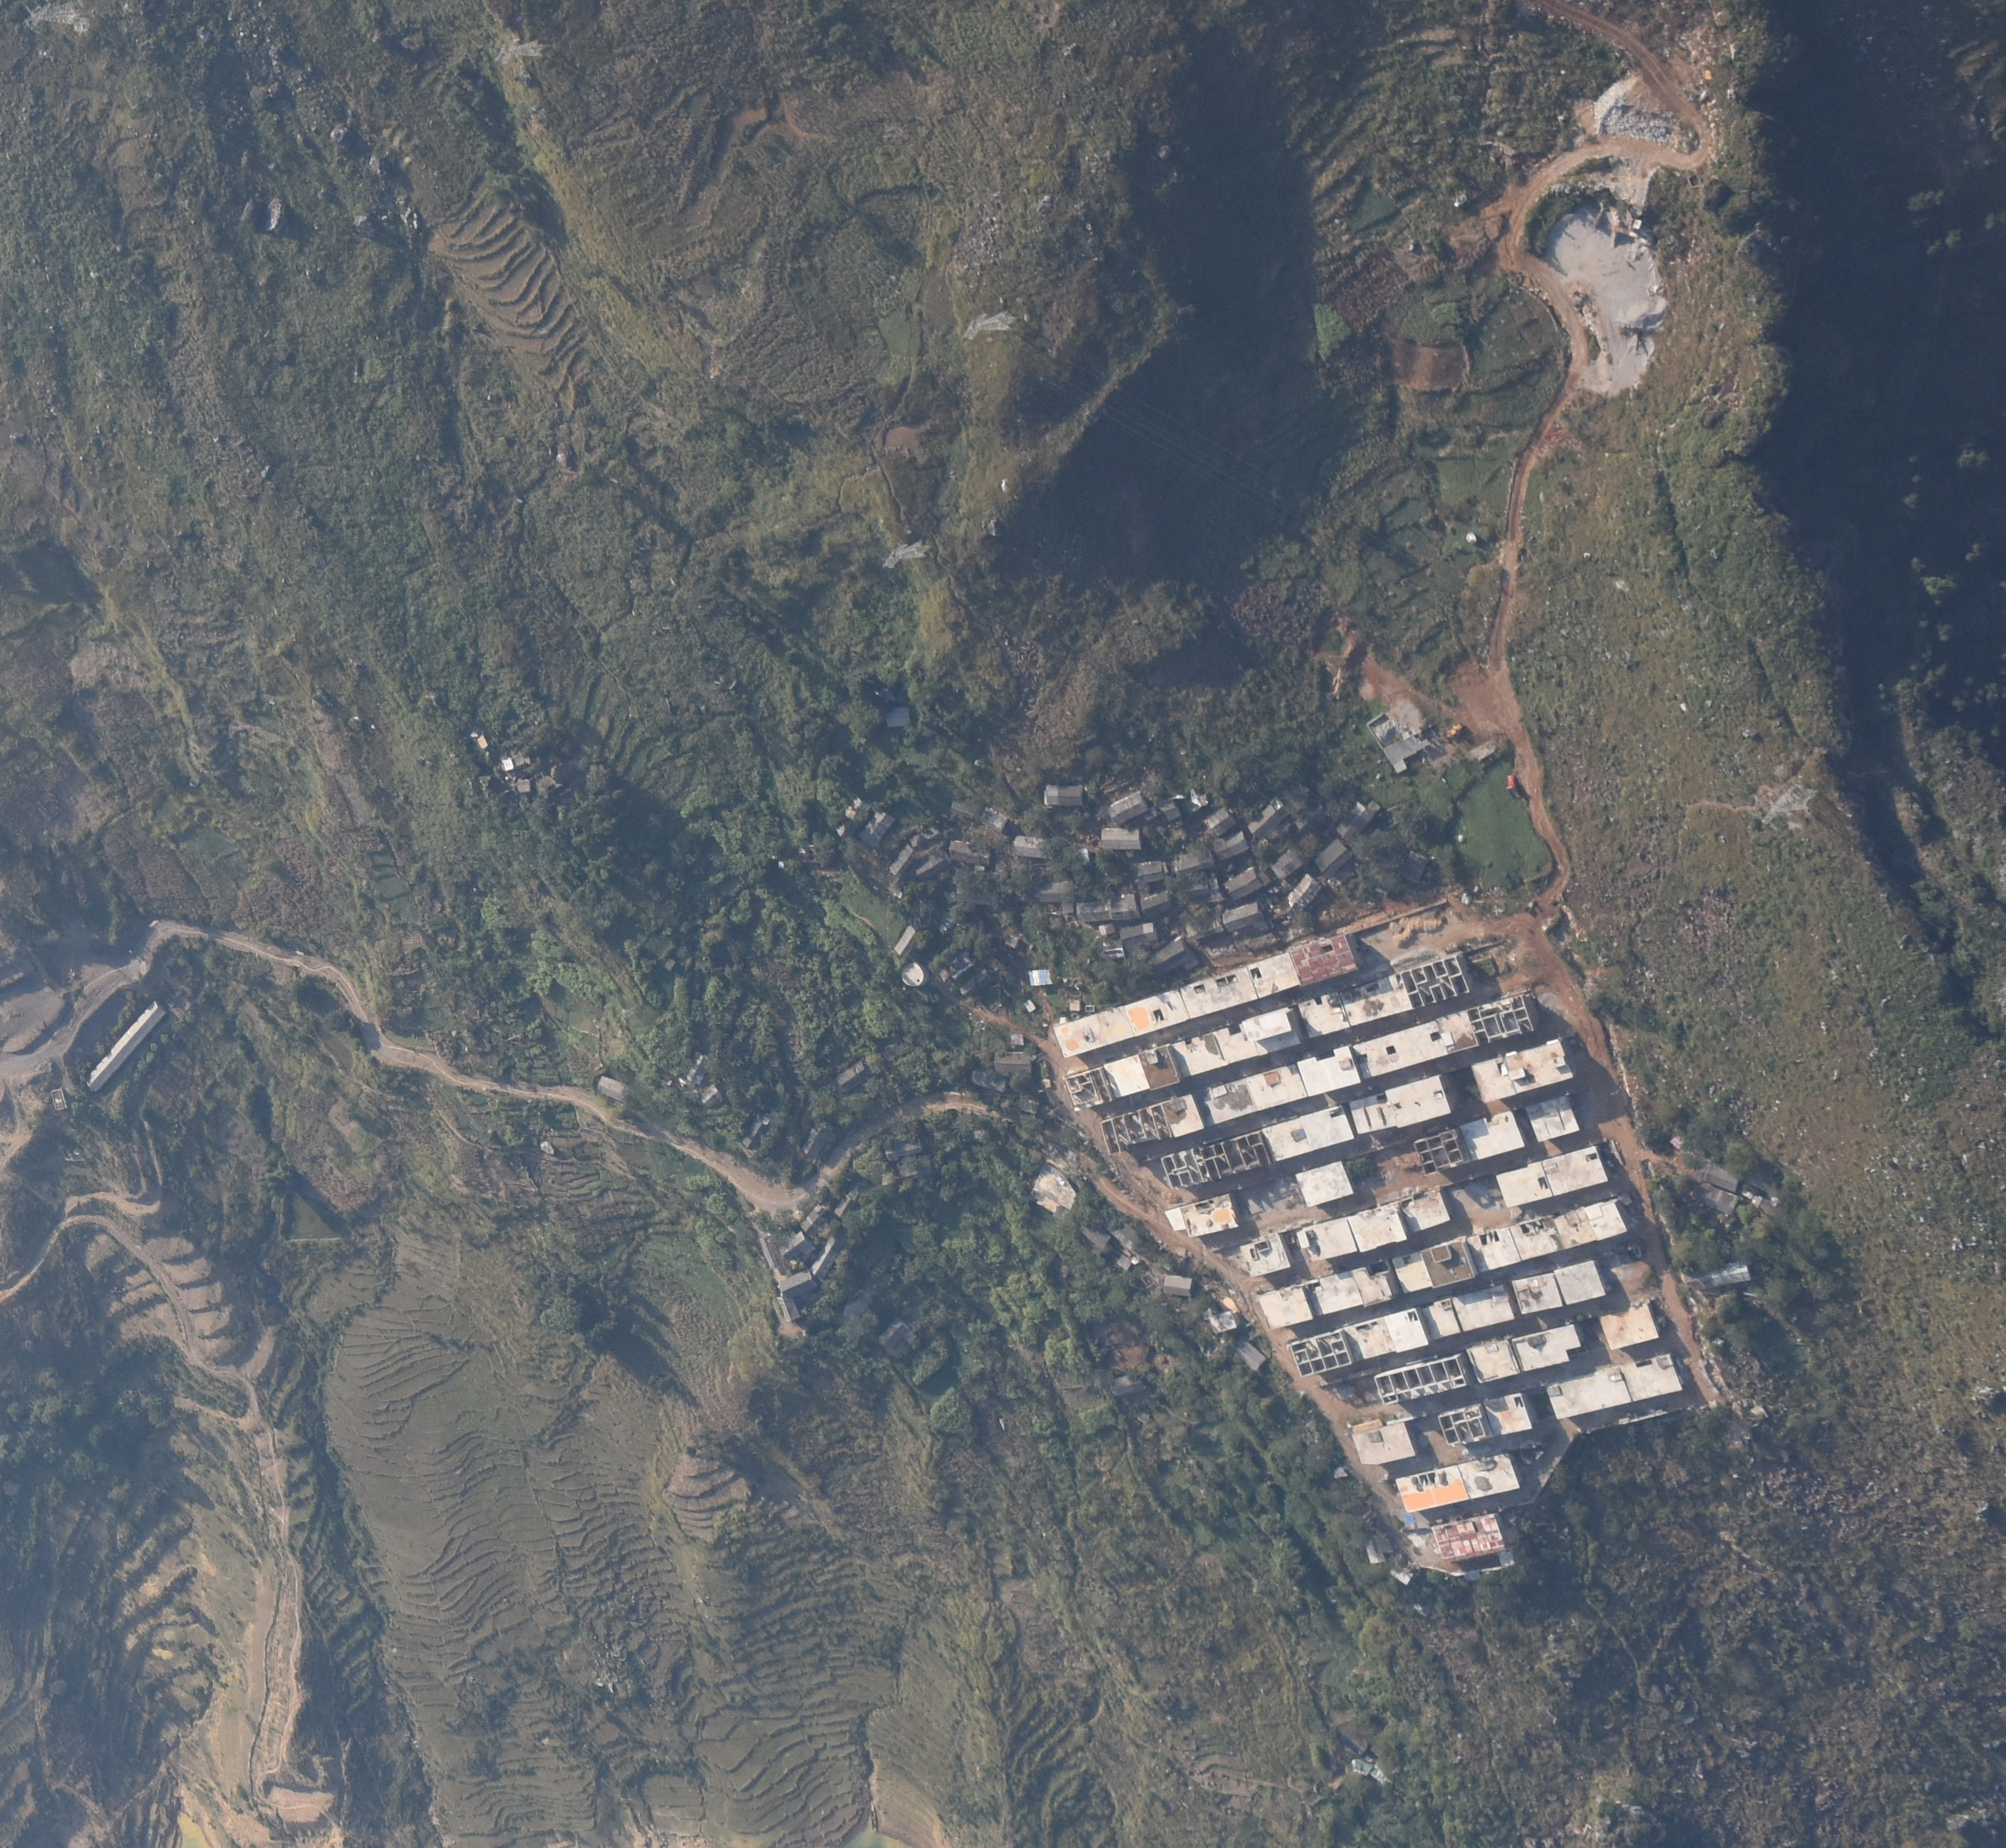building: (1473, 1040, 1574, 1101), (1162, 1131, 1270, 1187), (1351, 1077, 1454, 1133), (1351, 1023, 1449, 1079), (1262, 1103, 1352, 1159), (1054, 1007, 1134, 1059), (1548, 1369, 1630, 1420), (1181, 967, 1258, 1019), (1337, 974, 1412, 1026), (1401, 955, 1473, 1009), (1431, 1514, 1510, 1563), (1373, 1360, 1461, 1404), (1365, 712, 1426, 771), (1099, 1107, 1172, 1156), (1396, 1465, 1468, 1514), (1553, 1201, 1627, 1248), (1298, 1044, 1361, 1098), (1290, 934, 1356, 984), (1351, 1418, 1419, 1467), (1459, 1110, 1522, 1161), (1471, 997, 1536, 1044), (1347, 1201, 1405, 1254), (1164, 1196, 1239, 1236), (1457, 1453, 1524, 1498), (1291, 1330, 1352, 1379), (1125, 988, 1188, 1035), (1419, 1236, 1477, 1287), (678, 1051, 727, 1110), (1297, 1215, 1358, 1262), (1622, 1355, 1683, 1402), (1513, 1327, 1581, 1369), (1452, 1287, 1517, 1330), (1244, 1007, 1302, 1056), (1601, 1303, 1660, 1350), (889, 829, 949, 874), (1546, 1150, 1606, 1196), (1244, 1065, 1307, 1107), (1466, 1227, 1522, 1275), (1307, 1269, 1365, 1315), (1027, 1161, 1076, 1213), (1496, 1163, 1553, 1206), (1510, 1213, 1562, 1261), (1295, 1164, 1356, 1205), (1248, 953, 1300, 998), (1297, 995, 1349, 1040), (1466, 1337, 1518, 1383), (835, 801, 891, 843), (1200, 1080, 1256, 1122), (1352, 1257, 1400, 1306), (1415, 1131, 1468, 1175), (1524, 1098, 1578, 1140), (1260, 1285, 1314, 1327), (1211, 1016, 1256, 1065), (1061, 1068, 1113, 1110), (1169, 1033, 1221, 1075), (1438, 1406, 1491, 1446), (884, 1138, 930, 1184), (1401, 1187, 1449, 1231), (1344, 1318, 1393, 1360), (1555, 1261, 1604, 1303), (1487, 1393, 1536, 1435), (1239, 1236, 1290, 1276), (1097, 923, 1159, 956), (1337, 799, 1380, 844), (1104, 1054, 1148, 1100), (1384, 1306, 1429, 1350), (1513, 1273, 1562, 1313), (1138, 1044, 1179, 1089), (1244, 801, 1288, 843), (1160, 1093, 1204, 1135), (1438, 1007, 1478, 1051), (1391, 1250, 1429, 1296), (776, 1275, 813, 1322), (1075, 895, 1138, 921), (949, 802, 1006, 830), (1422, 1297, 1461, 1339), (944, 956, 987, 991), (1312, 841, 1349, 881), (1174, 881, 1223, 911), (1162, 792, 1209, 820), (1283, 876, 1318, 913), (1704, 1157, 1740, 1192), (1698, 1185, 1739, 1217), (778, 841, 821, 869), (799, 1203, 832, 1240), (1704, 1262, 1749, 1289), (1111, 790, 1148, 822), (1186, 914, 1225, 944), (797, 1126, 832, 1157), (874, 1320, 909, 1351), (1216, 829, 1248, 864), (1106, 1219, 1141, 1250), (1235, 1337, 1267, 1372), (993, 1051, 1033, 1077), (835, 1061, 867, 1094), (1746, 1166, 1779, 1198), (1225, 867, 1260, 897), (743, 1115, 771, 1152), (760, 1231, 786, 1269), (809, 1241, 840, 1273), (1139, 888, 1172, 918), (1101, 827, 1141, 851), (951, 839, 989, 864), (1223, 906, 1262, 930), (1078, 1217, 1110, 1247), (834, 1185, 861, 1219), (1108, 1372, 1145, 1397), (596, 1073, 627, 1101), (1036, 879, 1075, 902), (1174, 853, 1213, 876), (1204, 808, 1237, 834), (1043, 785, 1083, 806), (1157, 941, 1188, 967), (1270, 853, 1302, 879), (783, 1231, 813, 1257), (893, 927, 919, 956), (882, 705, 912, 729), (1206, 1310, 1235, 1334), (1164, 1273, 1193, 1296), (1013, 836, 1047, 855), (1136, 860, 1167, 879), (49, 1086, 70, 1110), (503, 754, 528, 771), (1027, 969, 1052, 984), (1020, 998, 1034, 1012), (475, 733, 489, 747), (517, 778, 531, 792), (1010, 1033, 1024, 1046), (1069, 1000, 1080, 1011)
cable-tower: (1758, 780, 1821, 829), (881, 538, 935, 572), (959, 309, 1015, 341), (495, 37, 547, 66)
prefabricated-house: (82, 1000, 163, 1093)
quarry: (1513, 80, 1679, 395)
well: (900, 962, 926, 986)
